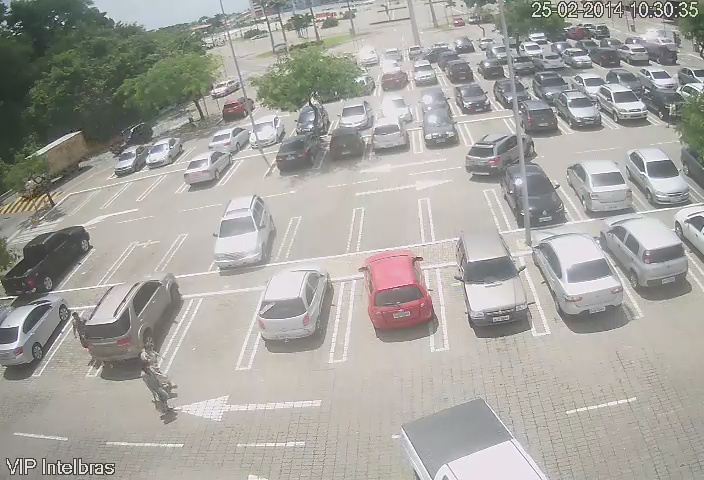car: (446, 240, 531, 327), (532, 233, 614, 312), (91, 285, 167, 364), (357, 252, 436, 326), (605, 216, 684, 284), (260, 265, 329, 342), (620, 151, 690, 212), (1, 302, 59, 366), (497, 169, 558, 229), (215, 198, 268, 267), (562, 164, 627, 213), (16, 238, 82, 285), (593, 85, 643, 123), (637, 63, 683, 97), (561, 98, 605, 133), (416, 89, 454, 120), (279, 141, 316, 172), (647, 87, 684, 118), (370, 123, 408, 153), (517, 103, 554, 132), (574, 65, 610, 94), (193, 155, 224, 188), (327, 132, 362, 161), (534, 75, 572, 100), (295, 104, 328, 132), (149, 138, 180, 167), (488, 82, 525, 104), (420, 120, 455, 143), (248, 120, 279, 145), (383, 96, 415, 119), (452, 85, 484, 108), (208, 132, 249, 149), (341, 105, 370, 129), (607, 68, 635, 90), (118, 149, 142, 169)
lot: (182, 289, 255, 376), (352, 204, 430, 247), (294, 210, 360, 258), (420, 192, 497, 232), (161, 229, 217, 280), (82, 236, 115, 295), (125, 233, 163, 283), (459, 115, 517, 138), (238, 148, 270, 185), (114, 176, 151, 205), (158, 170, 188, 198), (89, 184, 115, 212), (61, 193, 84, 214), (180, 143, 209, 158)
